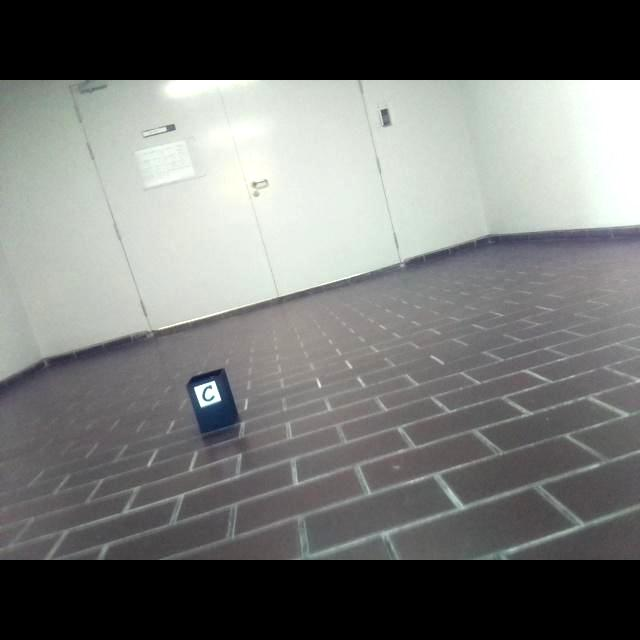C: (202, 385, 215, 403)
